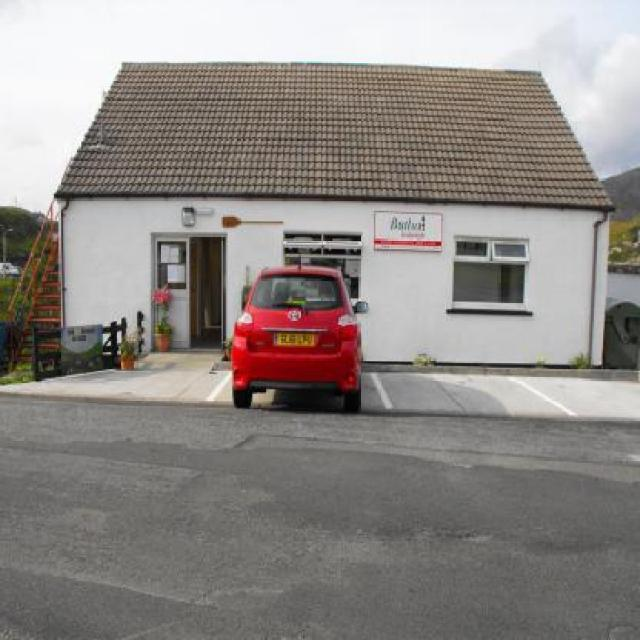License-Plates: (271, 326, 320, 350)
